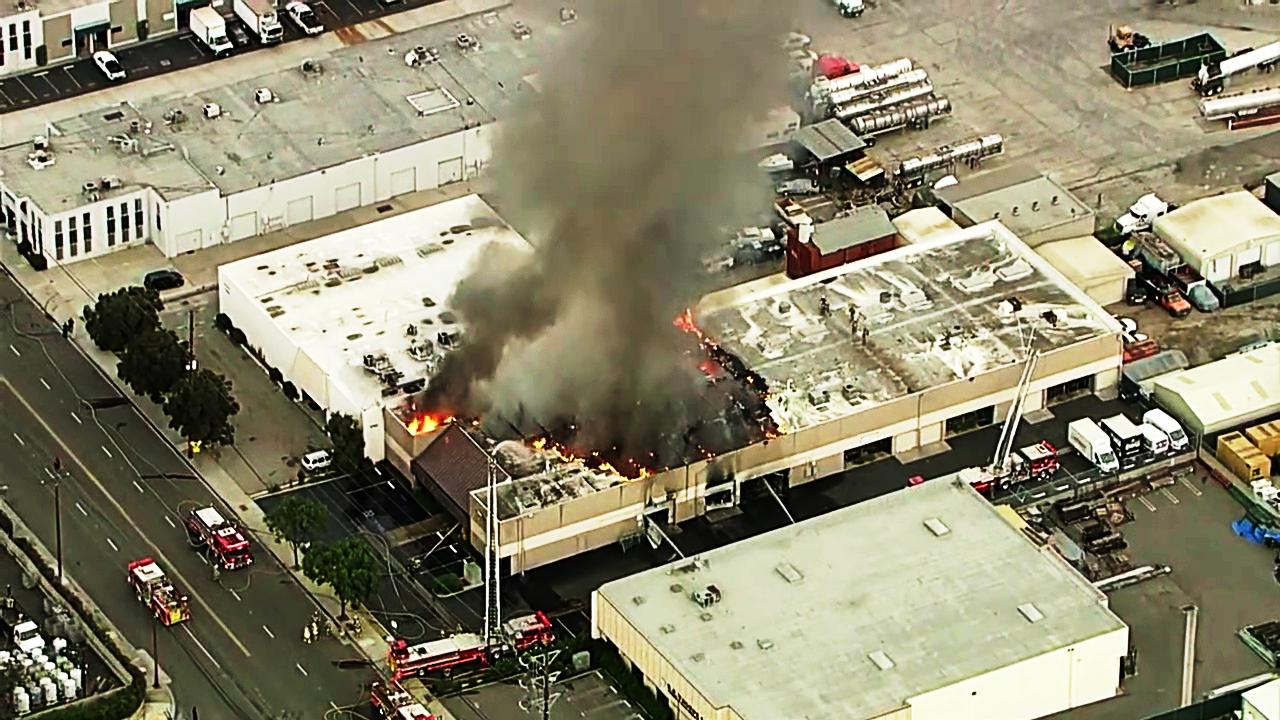smoke: (517, 31, 723, 375)
